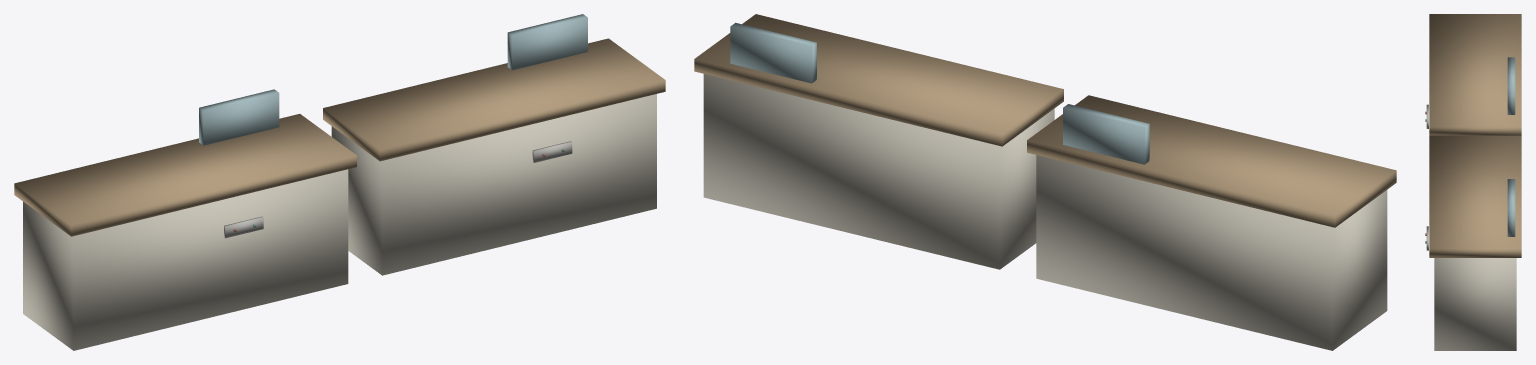
Rendered from pharmacy_pickup_counter__cluster.glb.
3 views of the same model, side by side, from view 1: azimuth 30°, elevation 25°; view 2: azimuth 150°, elevation 25°; view 3: azimuth 270°, elevation 25° (orthographic). The views are drawn at different scales.
Visible parts, largest first — view 1: world; view 2: world; view 3: world.
Part boxes in pixels (x1,y1,x2,y2): world: (14,14,665,350); world: (694,14,1396,350); world: (1425,14,1521,350).
Bounding box in the file's own units: 4.33 × 1.14 × 0.751.
